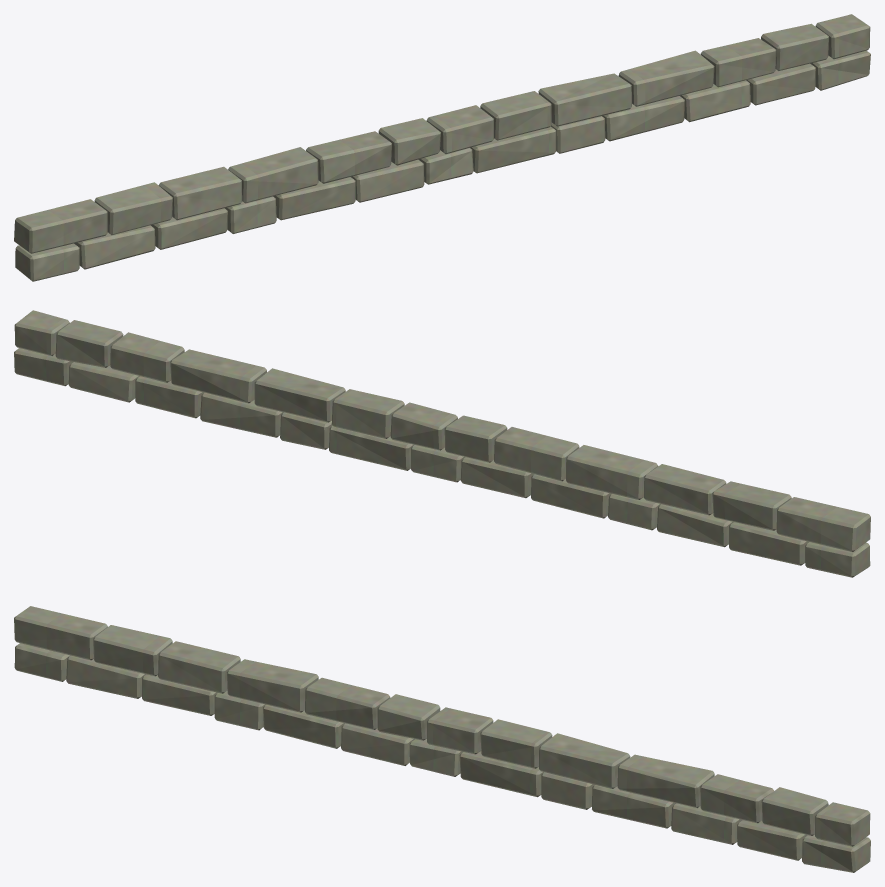
Rendered from SM_HH_Q3_Stone_CameraSide.fbx.
3 views of the same model, one above another, from view 1: azimuth 30°, elevation 25°; view 2: azimuth 150°, elevation 25°; view 3: azimuth 330°, elevation 25° (orthographic).
Parts seen in each view (by area): view 1: HH_Q3_Stone_CameraSide; view 2: HH_Q3_Stone_CameraSide; view 3: HH_Q3_Stone_CameraSide.
Boxes of the visible parts, x1,y1,x2,y2 form: HH_Q3_Stone_CameraSide: (14, 14, 870, 281); HH_Q3_Stone_CameraSide: (14, 310, 870, 577); HH_Q3_Stone_CameraSide: (14, 606, 870, 872).
Bounding box in the file's own units: 0.3561 × 8.69 × 0.5471.
